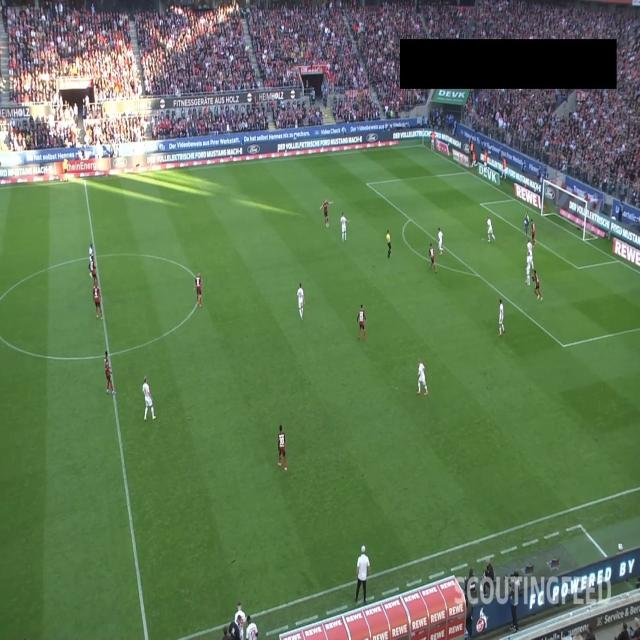ball: (524, 220, 527, 224)
